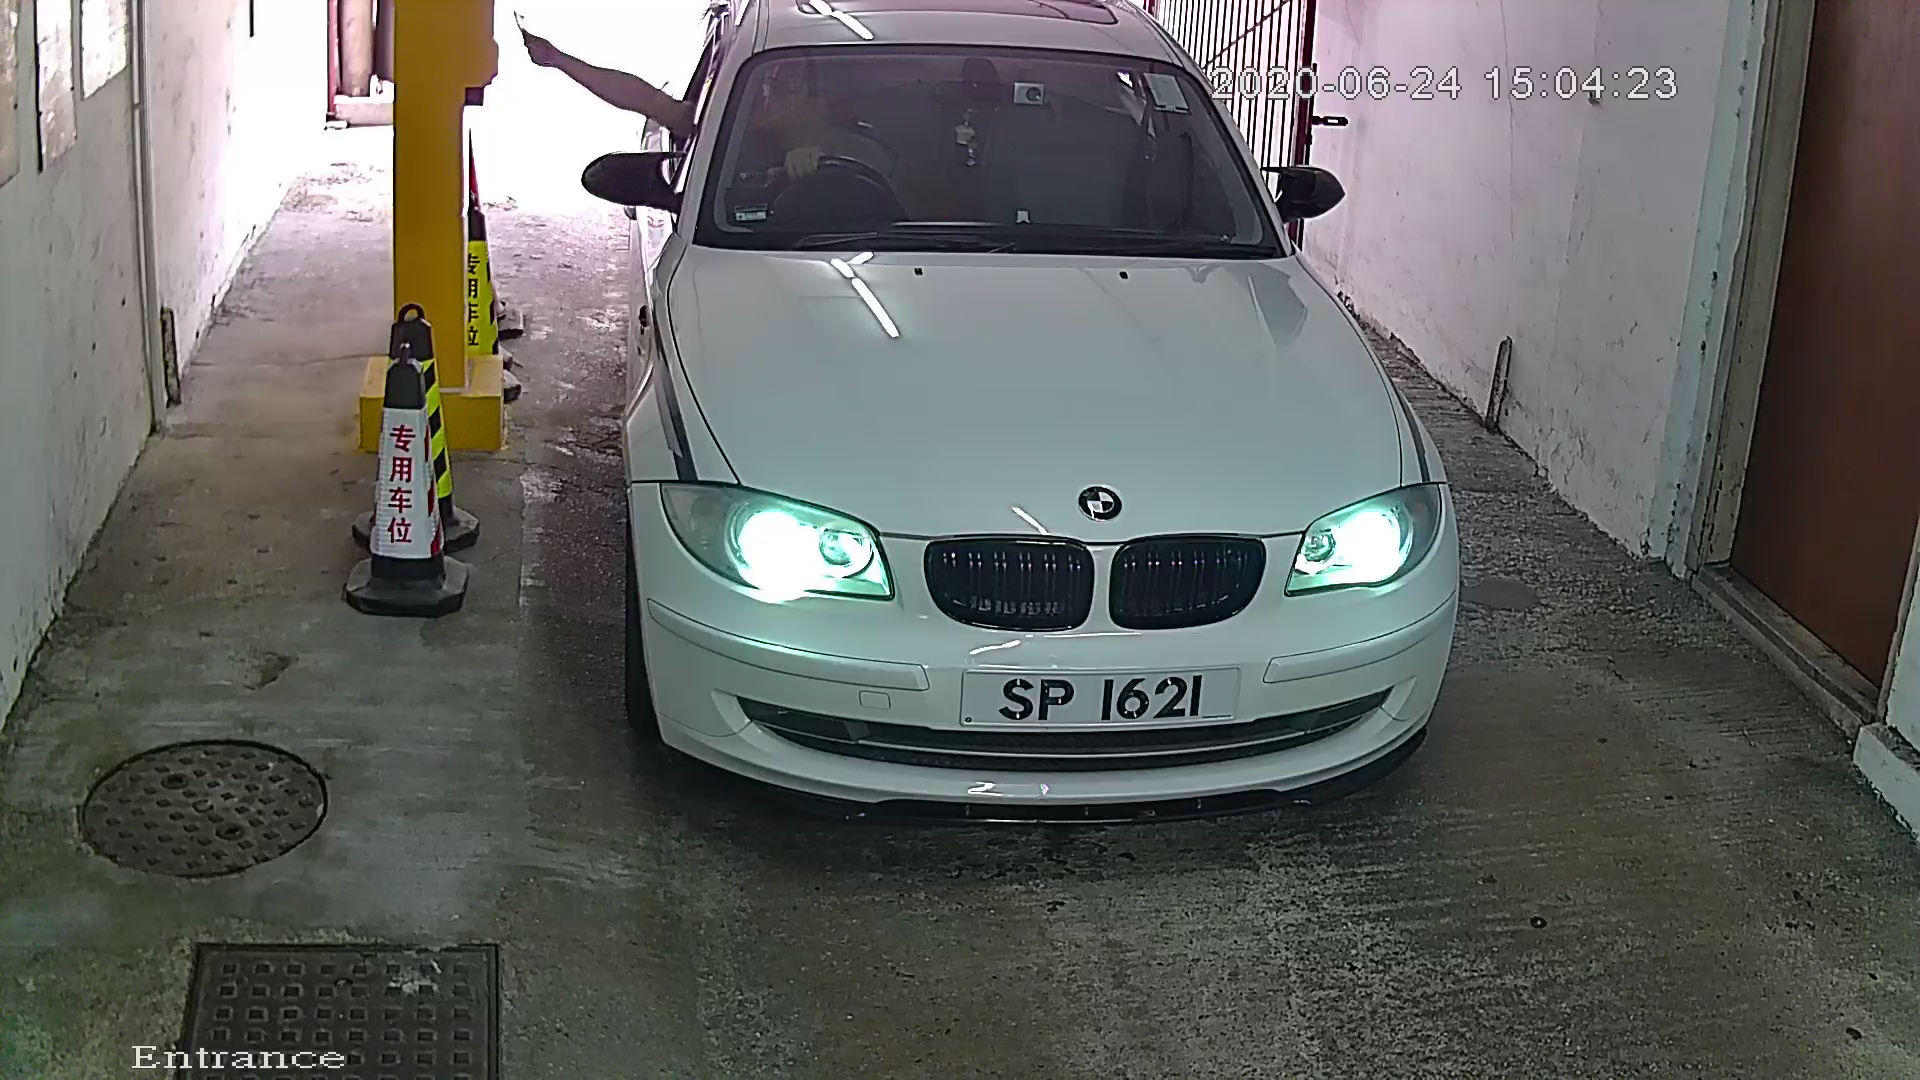Car: (540, 1, 1496, 880)
License Plate: (954, 652, 1257, 741)
